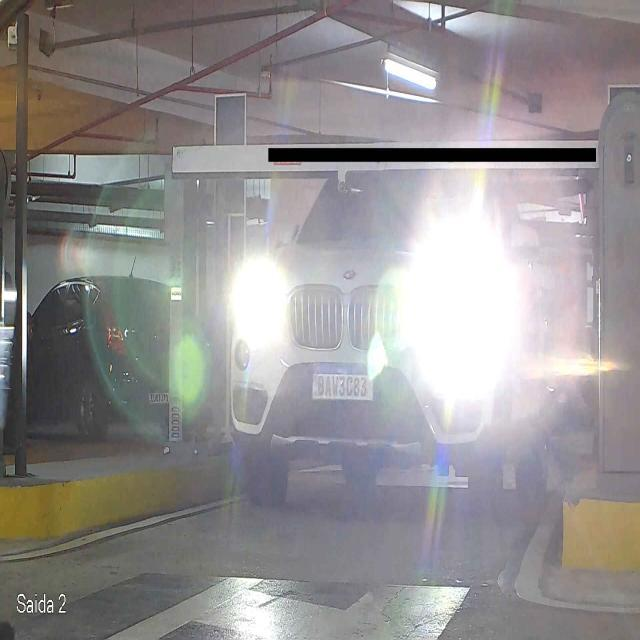mercosul_plate: (309, 361, 376, 403)
